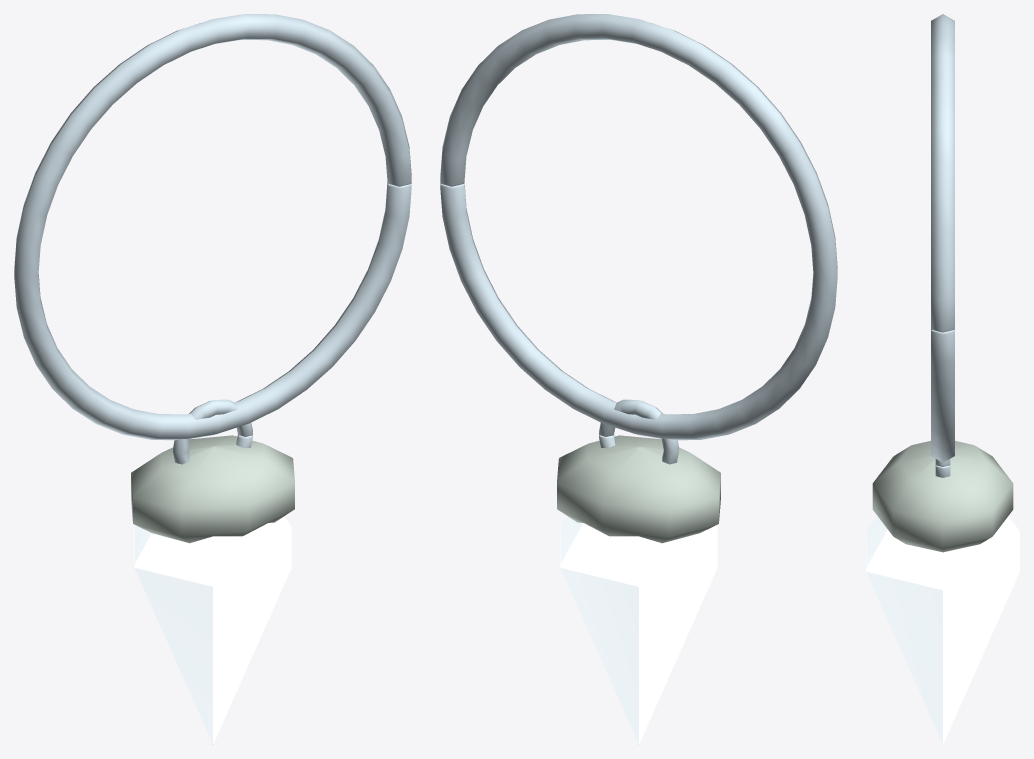
File: item_085.glb
3 renders of one model, left to right at view 1: azimuth 30°, elevation 25°; view 2: azimuth 150°, elevation 25°; view 3: azimuth 270°, elevation 25°, orthographic. The views are drawn at different scales.
Parts seen in each view (by area): view 1: Item_085_icicle_teardrop; view 2: Item_085_icicle_teardrop; view 3: Item_085_icicle_teardrop.
Part boxes in pixels (box(x1,y1,x2,y2)): Item_085_icicle_teardrop: box(14, 14, 411, 744); Item_085_icicle_teardrop: box(440, 14, 837, 744); Item_085_icicle_teardrop: box(866, 14, 1019, 744).
Bounding box in the file's own units: 0.4259 × 0.743 × 0.146.
